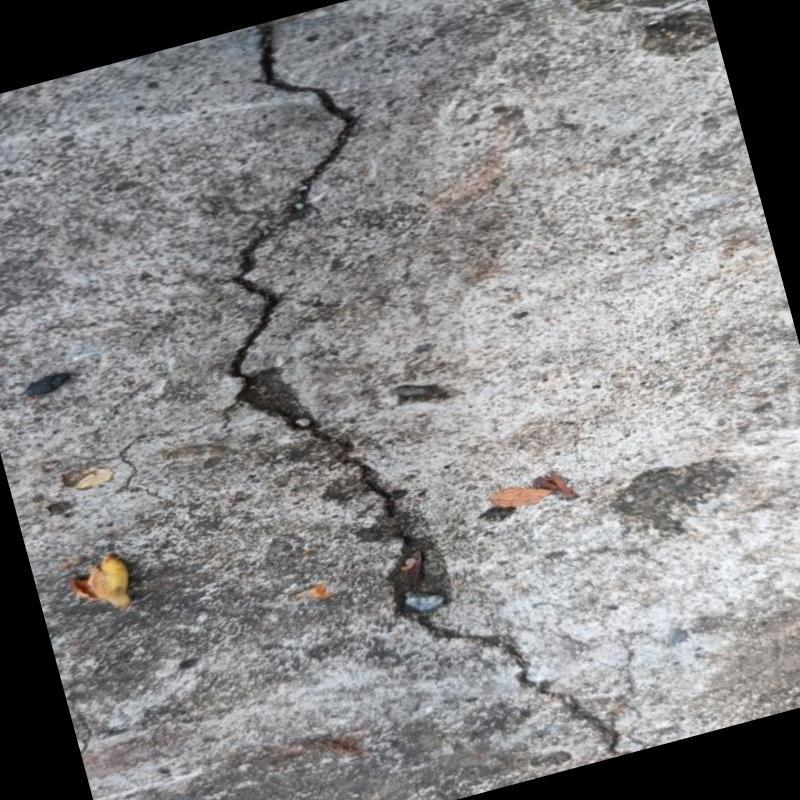crack: (230, 21, 618, 751)
